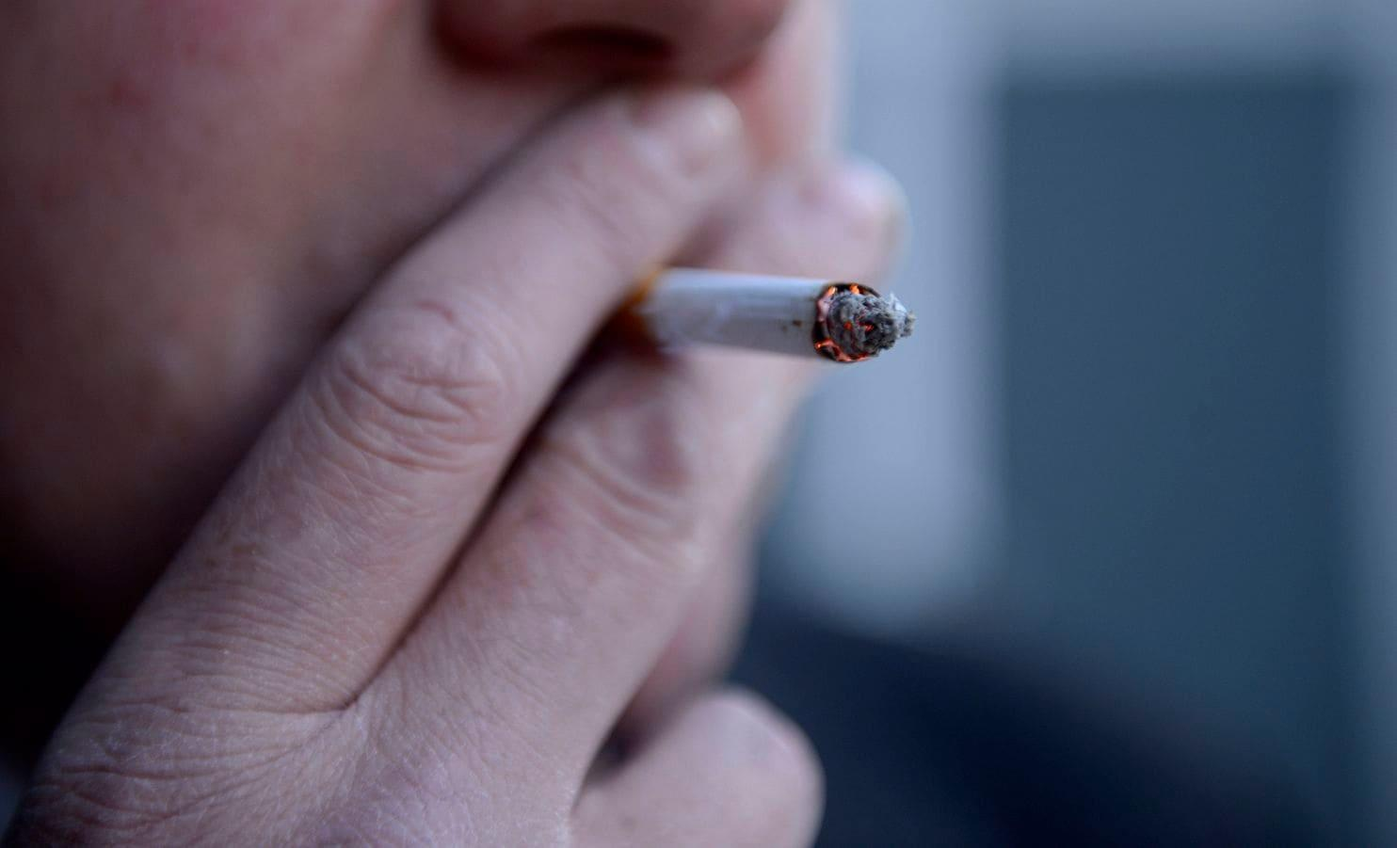cigarette: (598, 262, 923, 370)
